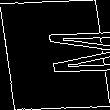M_W: (3, 30, 107, 80)
